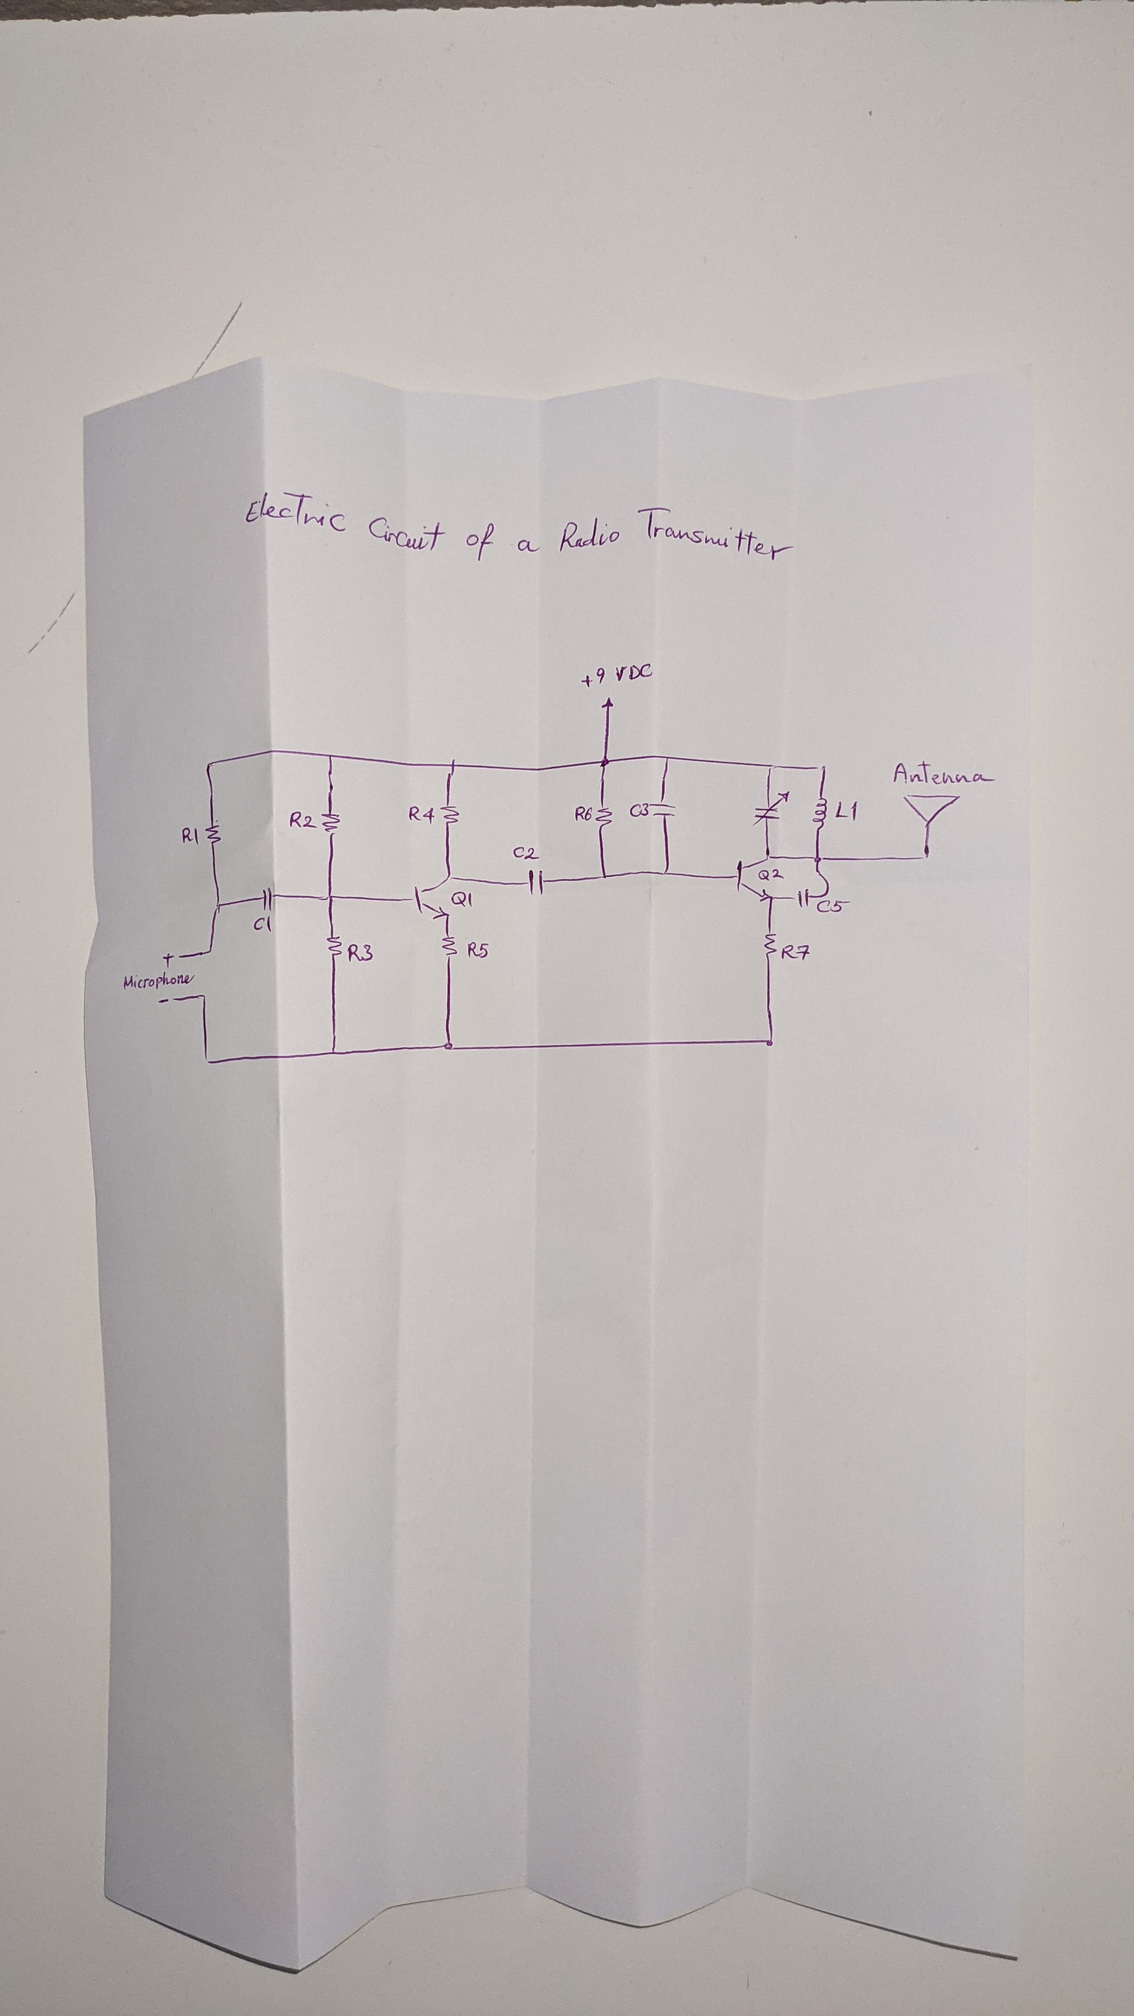antenna: (901, 792, 962, 827)
capacitor.unpolarized: (750, 789, 791, 828), (649, 798, 680, 821), (525, 867, 548, 897), (791, 886, 813, 908), (260, 885, 277, 912)
inductor: (810, 795, 829, 834)
junction: (444, 757, 457, 778), (440, 1038, 456, 1052), (321, 892, 336, 904), (659, 867, 676, 878), (204, 759, 216, 773), (598, 870, 611, 882), (816, 762, 829, 773), (764, 1036, 775, 1048), (764, 762, 775, 774), (600, 756, 611, 768), (811, 854, 825, 864), (919, 852, 930, 863), (818, 888, 829, 899), (213, 901, 223, 914), (202, 1055, 212, 1066), (330, 1045, 338, 1058), (199, 991, 209, 1001), (325, 752, 335, 760), (206, 946, 215, 955), (663, 753, 672, 762)
resistor: (438, 802, 461, 829), (320, 810, 341, 839), (594, 803, 613, 832), (440, 932, 460, 960), (762, 929, 780, 958), (204, 822, 223, 847), (325, 935, 343, 961)
terminal: (170, 996, 180, 1004), (176, 953, 184, 961)
text: (244, 489, 800, 566), (892, 759, 1000, 786), (579, 660, 656, 690), (120, 971, 197, 991), (288, 809, 318, 832), (407, 804, 438, 827), (834, 798, 860, 822), (346, 942, 375, 964), (780, 943, 811, 962), (816, 899, 852, 914), (512, 845, 541, 863), (757, 865, 786, 883), (449, 889, 474, 908), (180, 825, 201, 847), (467, 940, 490, 960), (252, 914, 274, 933), (629, 800, 649, 820), (573, 804, 594, 822), (161, 951, 176, 968), (156, 997, 170, 1005)
transistor: (728, 849, 778, 903), (407, 871, 457, 919)
vss: (600, 696, 618, 710)
